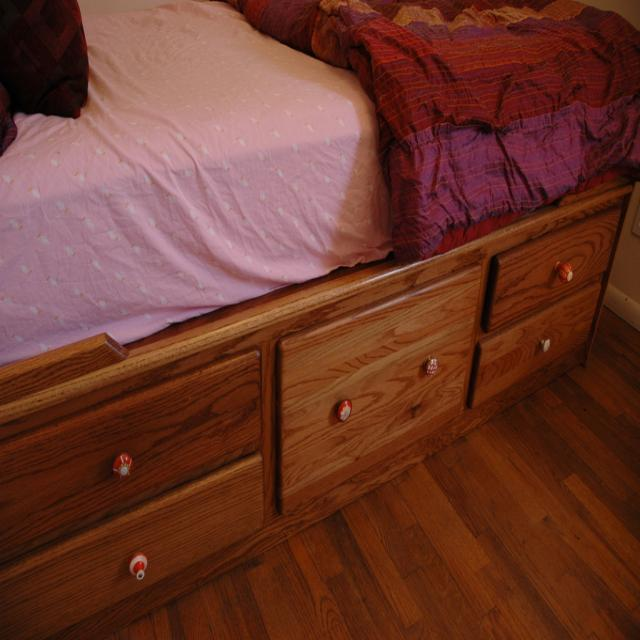bed: (23, 31, 614, 552)
